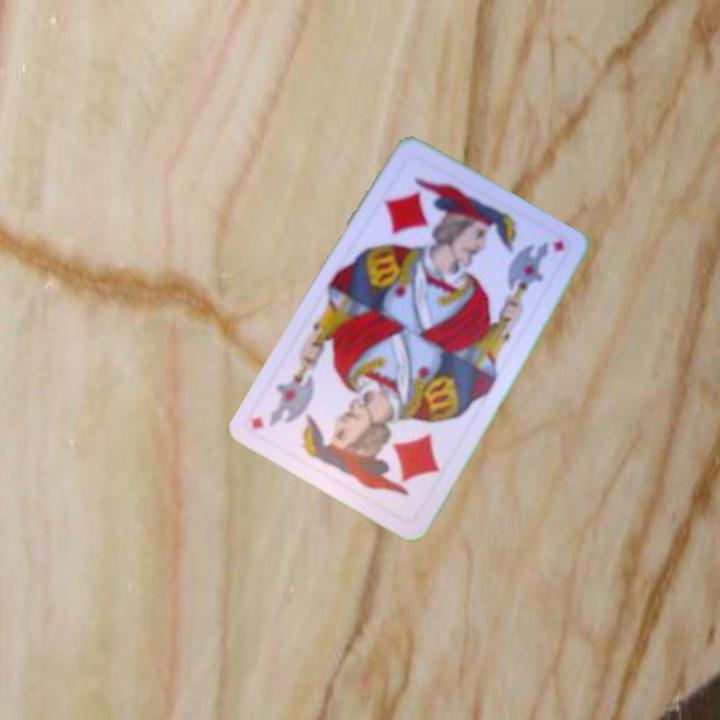d_j.png: (365, 151, 492, 274), (327, 402, 454, 525)
